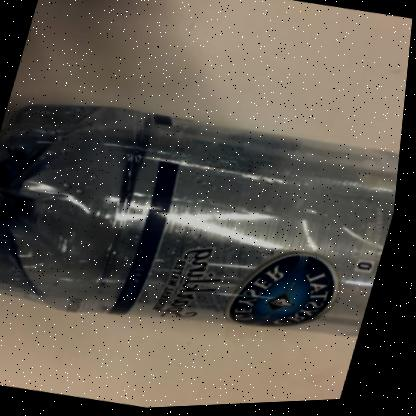Plastic: (0, 104, 403, 339)
